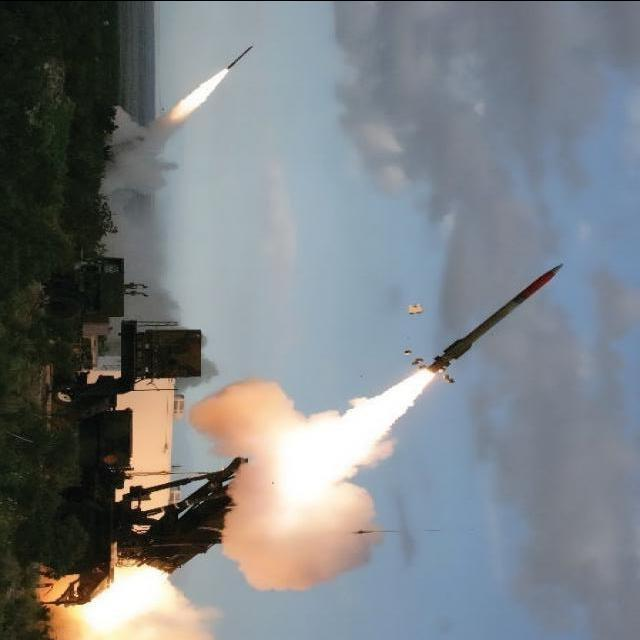Missile: (412, 260, 574, 386), (214, 43, 266, 74)
